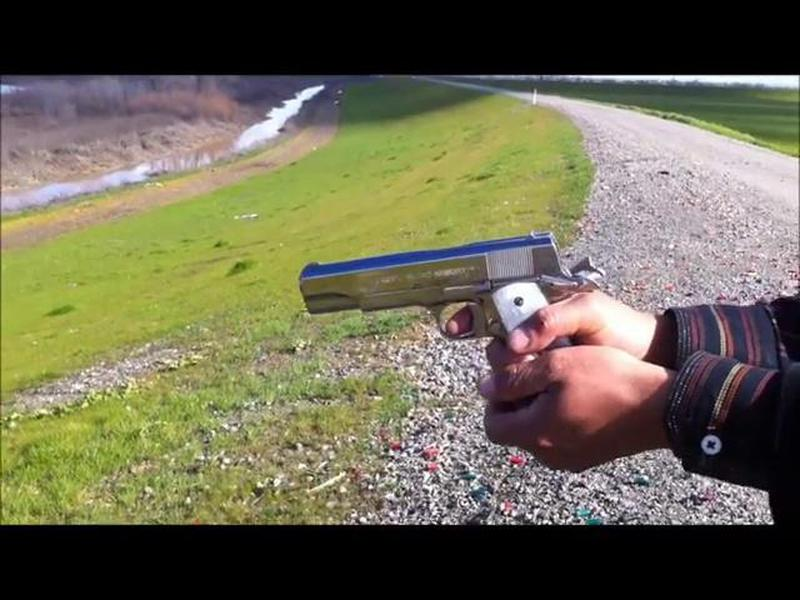Pistola: (276, 210, 592, 404)
